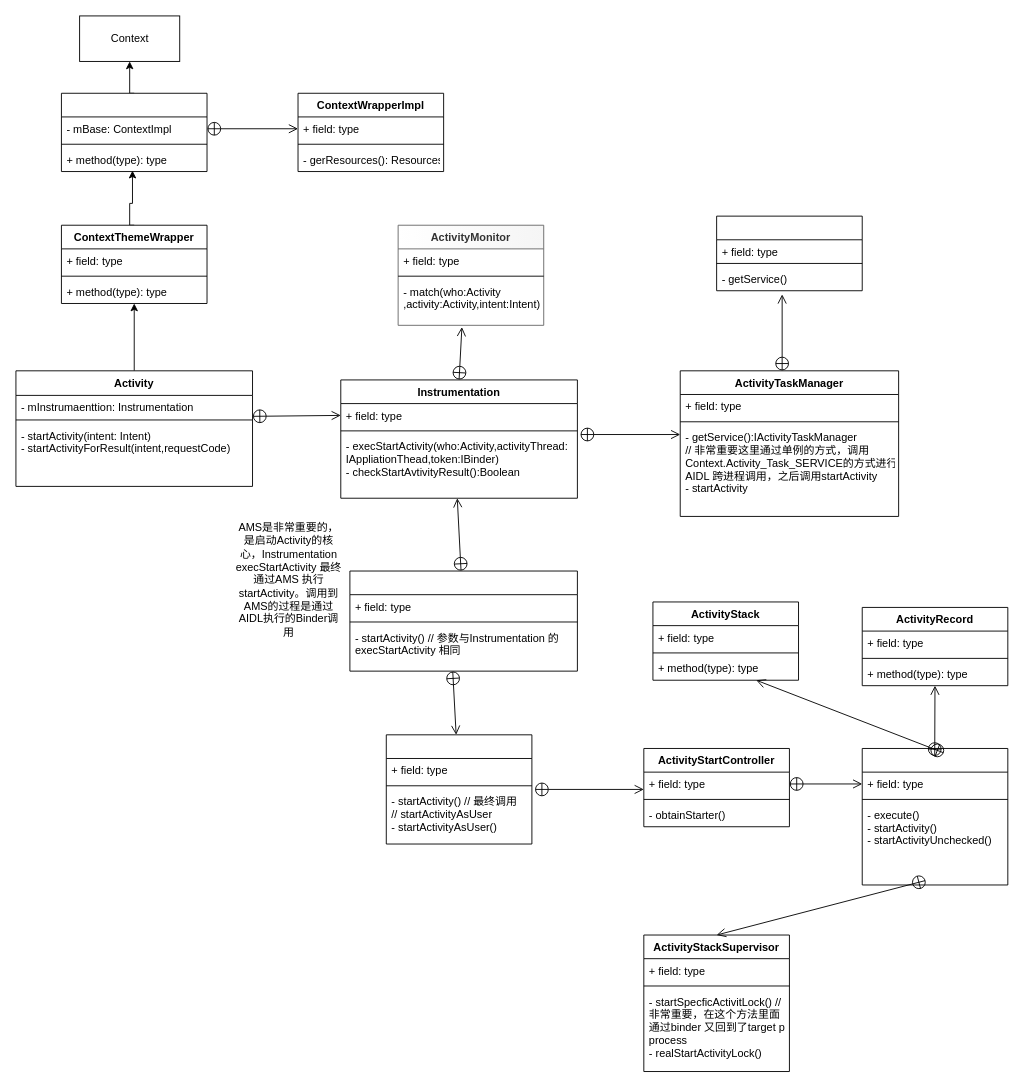
Image size: 1024x1090. Some labels were removed from this diagram. The shapes that lost their labels are listed below. From the top down, each one's box as (x1, y1, x2, y2) in pixels, then its label:
(61, 92, 207, 172): ContextWrapper
(716, 215, 862, 291): ServiceManager
(349, 570, 577, 671): ActivityManagerService
(385, 734, 532, 844): ActivityTaskManagerService
(861, 748, 1008, 885): ActivityStarter
